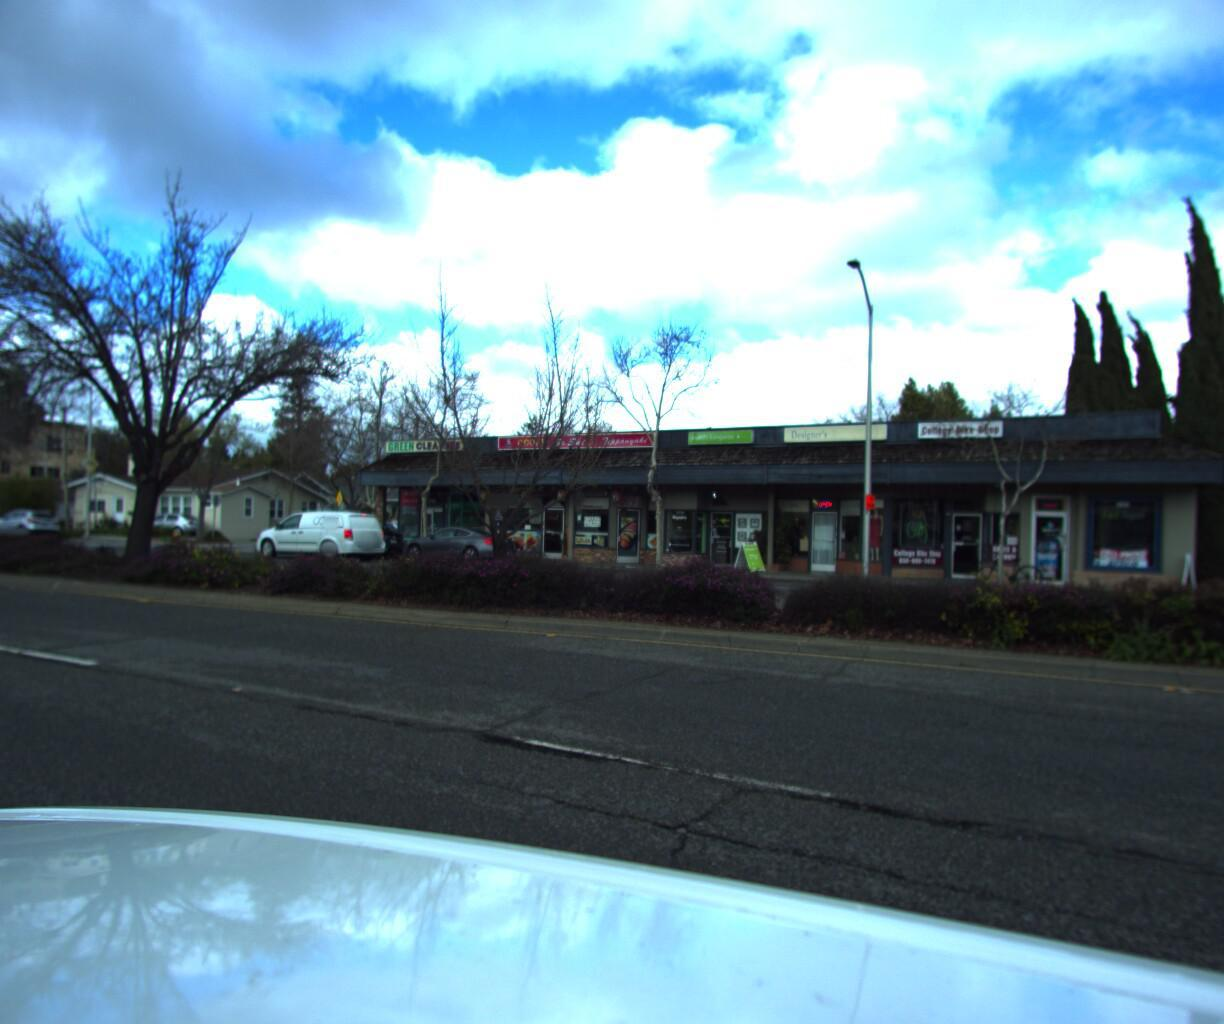bicycle: (980, 548, 1043, 585)
car: (247, 505, 386, 561), (388, 519, 525, 566), (293, 516, 410, 559), (1164, 529, 1224, 590), (1176, 536, 1224, 600), (126, 506, 211, 535), (0, 503, 63, 534)
